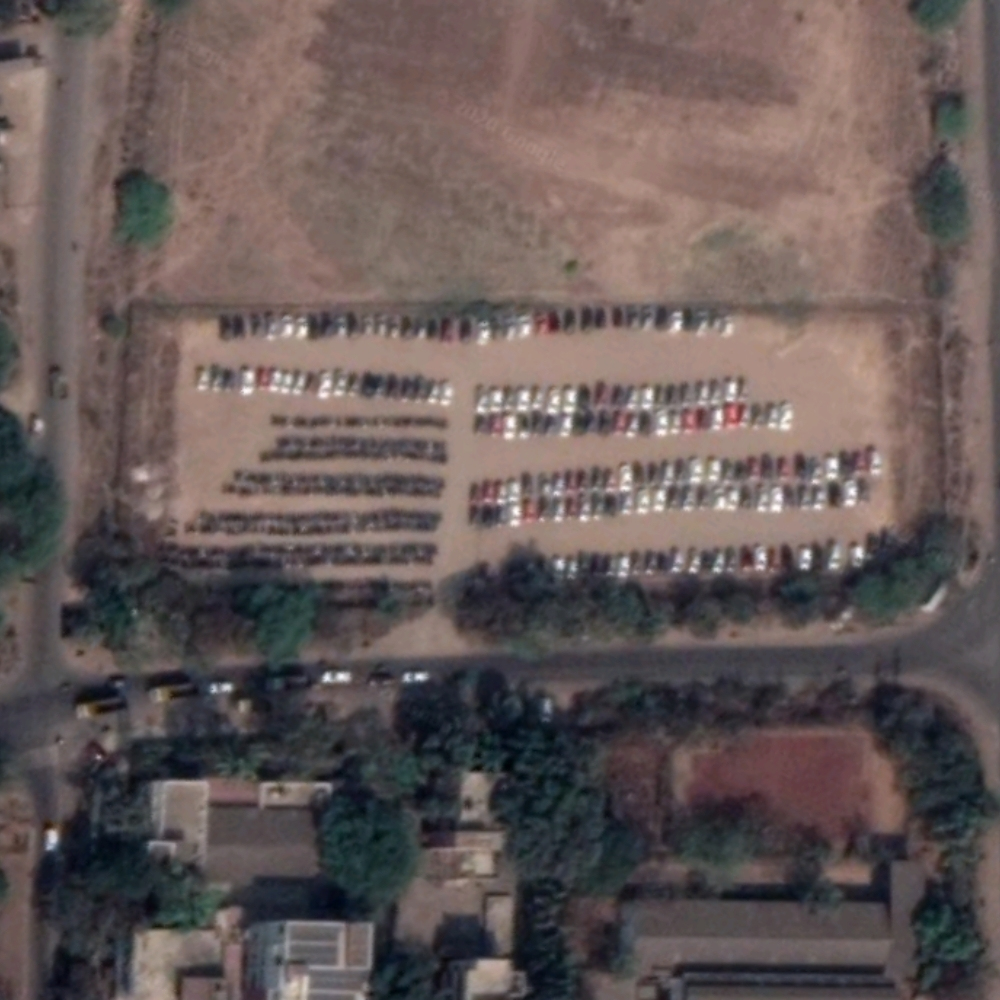parking: (180, 320, 895, 590)
